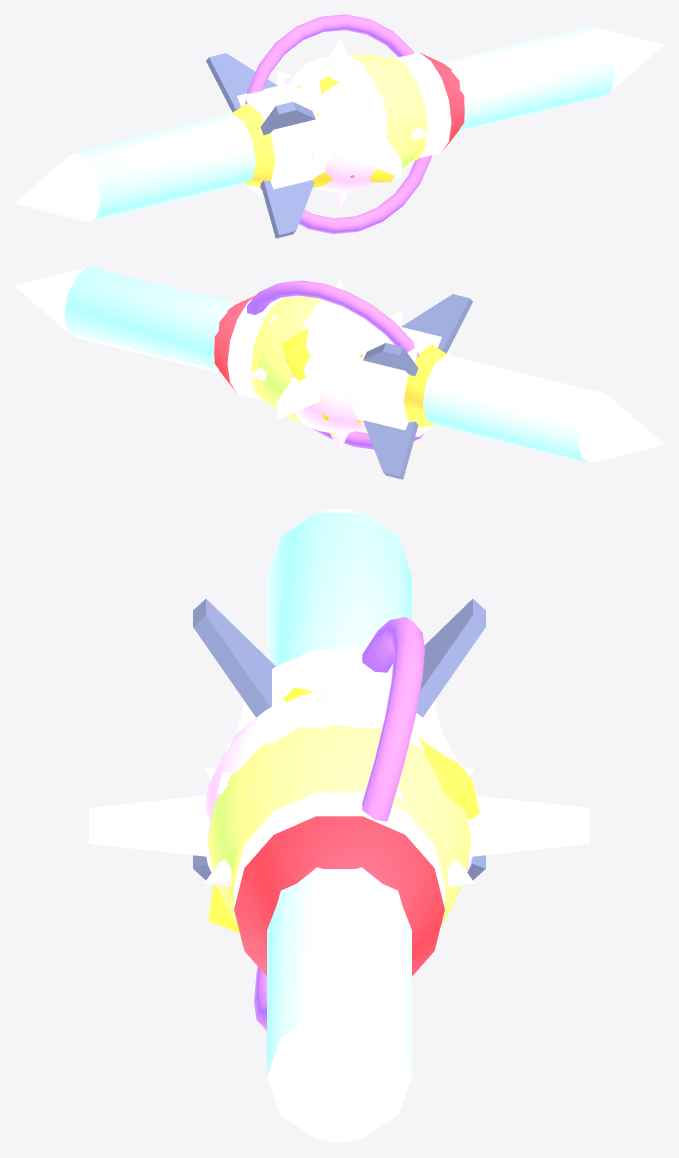
The model's file is projectiles.glb.
3 views of the same model, one above another, from view 1: azimuth 30°, elevation 25°; view 2: azimuth 150°, elevation 25°; view 3: azimuth 270°, elevation 25° (orthographic). The views are drawn at different scales.
Visible parts, largest first — view 1: laser_beam, rocket_body, orb_ball, orb_ring, laser_tip-1, spit_drop, rocket_fin2, laser_tip1, rocket_fin0, rocket_exhaust, star_blades, rocket_nose (+5 smaller); view 2: laser_beam, rocket_body, orb_ball, laser_tip-1, orb_ring, spit_drop, rocket_fin3, rocket_fin1, laser_tip1, rocket_exhaust, star_blades, rocket_nose (+4 smaller); view 3: laser_beam, spit_drop, rocket_nose, laser_tip1, star_blades, rocket_body, orb_ring, orb_ball, rocket_fin1, rocket_fin0, flame_puff, rocket_band (+1 smaller).
Boxes of the visible parts, x1,y1,x2,y2 form: laser_beam: [77, 26, 614, 221]; rocket_body: [229, 52, 451, 195]; orb_ball: [284, 56, 387, 192]; orb_ring: [245, 14, 431, 233]; laser_tip-1: [14, 151, 100, 221]; spit_drop: [349, 54, 419, 182]; rocket_fin2: [260, 180, 314, 238]; laser_tip1: [591, 26, 664, 91]; rocket_fin0: [206, 53, 277, 112]; rocket_exhaust: [231, 103, 275, 186]; star_blades: [277, 69, 401, 178]; rocket_nose: [420, 53, 464, 151]; laser_beam: [64, 267, 601, 463]; rocket_body: [227, 297, 449, 436]; orb_ball: [291, 299, 377, 433]; laser_tip-1: [578, 393, 664, 463]; orb_ring: [247, 280, 423, 449]; spit_drop: [259, 296, 322, 423]; rocket_fin3: [363, 420, 418, 479]; rocket_fin1: [401, 294, 472, 353]; laser_tip1: [14, 267, 87, 331]; rocket_exhaust: [403, 344, 447, 427]; star_blades: [277, 310, 401, 419]; rocket_nose: [214, 295, 255, 392]; laser_beam: [267, 512, 411, 1075]; spit_drop: [207, 725, 471, 927]; rocket_nose: [234, 816, 444, 976]; laser_tip1: [267, 1014, 411, 1143]; star_blades: [89, 795, 589, 856]; rocket_body: [234, 649, 444, 908]; orb_ring: [254, 617, 424, 1030]; orb_ball: [205, 690, 472, 872]; rocket_fin1: [193, 599, 275, 717]; rocket_fin0: [416, 599, 485, 717]; flame_puff: [208, 687, 479, 933]; rocket_band: [231, 784, 447, 895].
Size of the model in its own units: 11.4 by 3.14 by 3.8.
